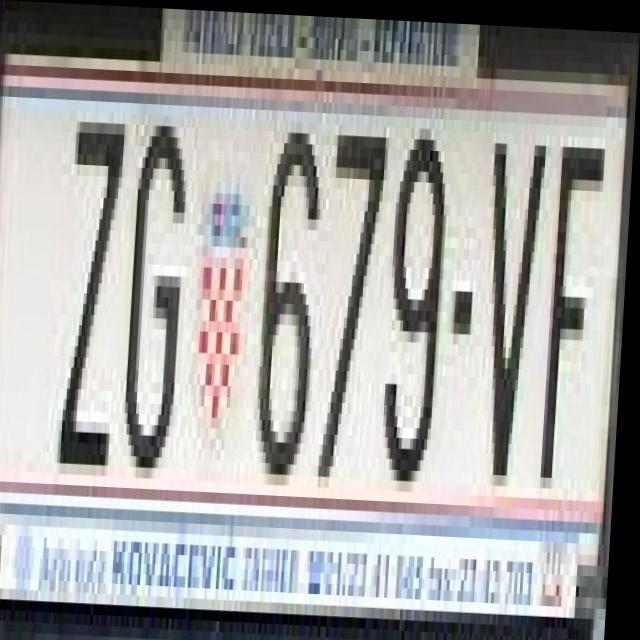6: (253, 107, 327, 493)
7: (315, 109, 392, 486)
9: (381, 101, 457, 467)
F: (541, 108, 614, 473)
G: (118, 101, 198, 478)
V: (472, 116, 546, 492)
Z: (60, 99, 136, 475)
